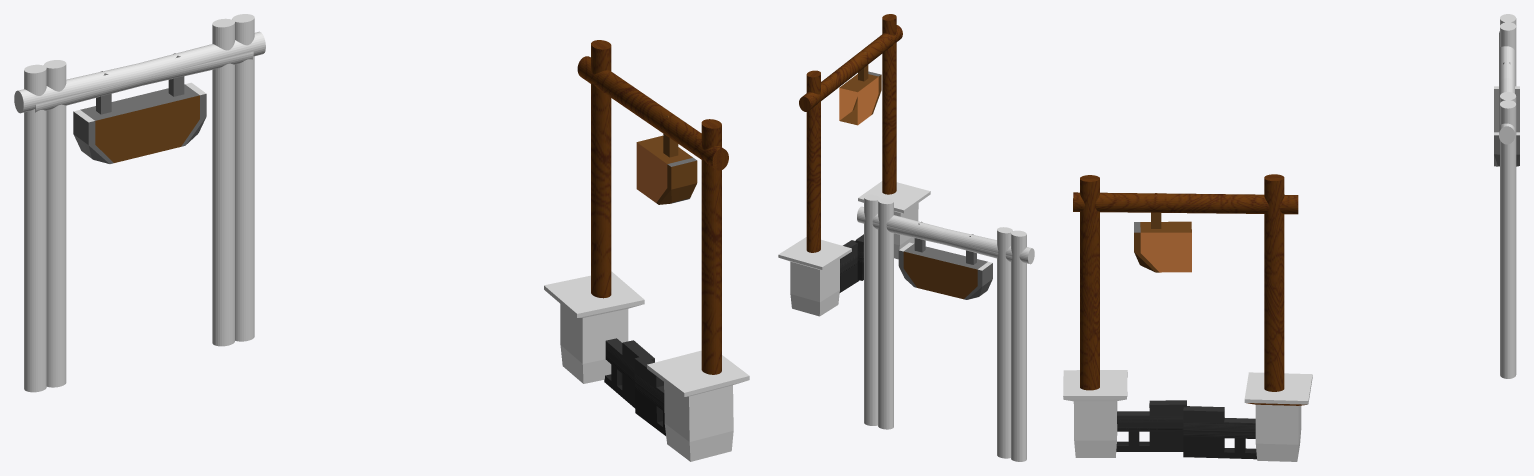
The model's file is tall gate.fbx.
3 views of the same model, side by side, from view 1: azimuth 30°, elevation 25°; view 2: azimuth 150°, elevation 25°; view 3: azimuth 270°, elevation 25° (orthographic). The views are drawn at different scales.
Visible parts, largest first — view 1: Object, Cube; view 2: Object, Cube; view 3: Cube, Object.
Part boxes in pixels (x1=…): Object: x1=14, y1=14, x2=265, y2=392; Cube: x1=544, y1=40, x2=749, y2=461; Object: x1=857, y1=194, x2=1034, y2=461; Cube: x1=778, y1=14, x2=930, y2=316; Cube: x1=1063, y1=174, x2=1312, y2=461; Object: x1=1494, y1=14, x2=1519, y2=378.
Bounding box in the file's own units: 54.06 × 36.9 × 53.01.
